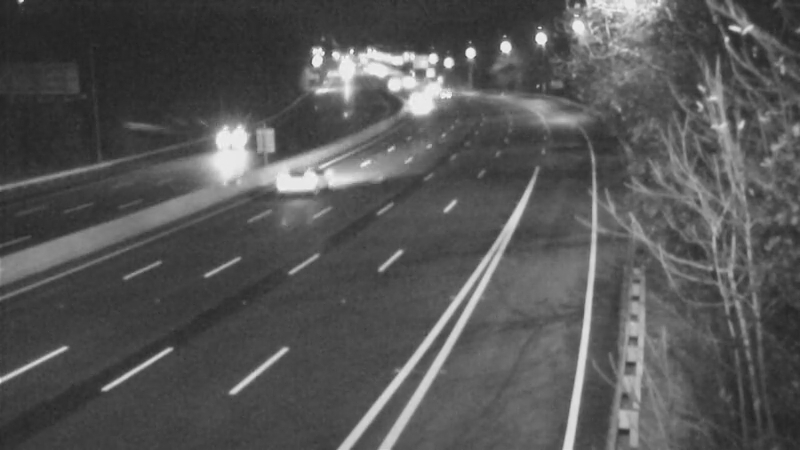vehicle: (256, 143, 336, 223), (422, 68, 472, 118), (394, 81, 444, 131), (207, 111, 257, 161)
